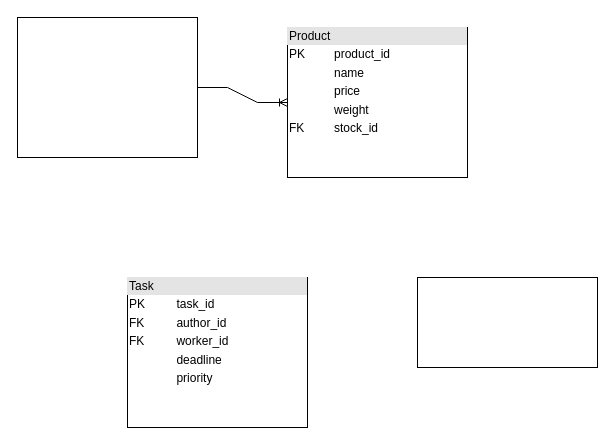
The diagram is 615 pixels wide and 445 high, and some of its shapes have lost their labels. The box of each missing label's shape, as (x1, y1, x2, y2) in pixels:
Operator PK id fieldname: (416, 276, 598, 368)
Stock PK stock_id capacity number: (16, 16, 198, 158)
